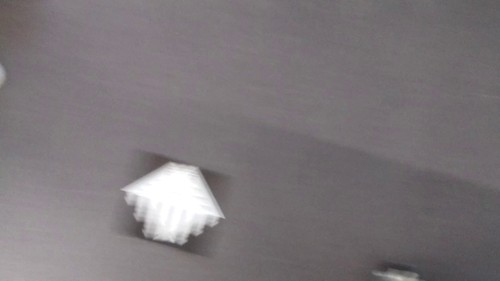misgoods: (116, 164, 232, 246)
